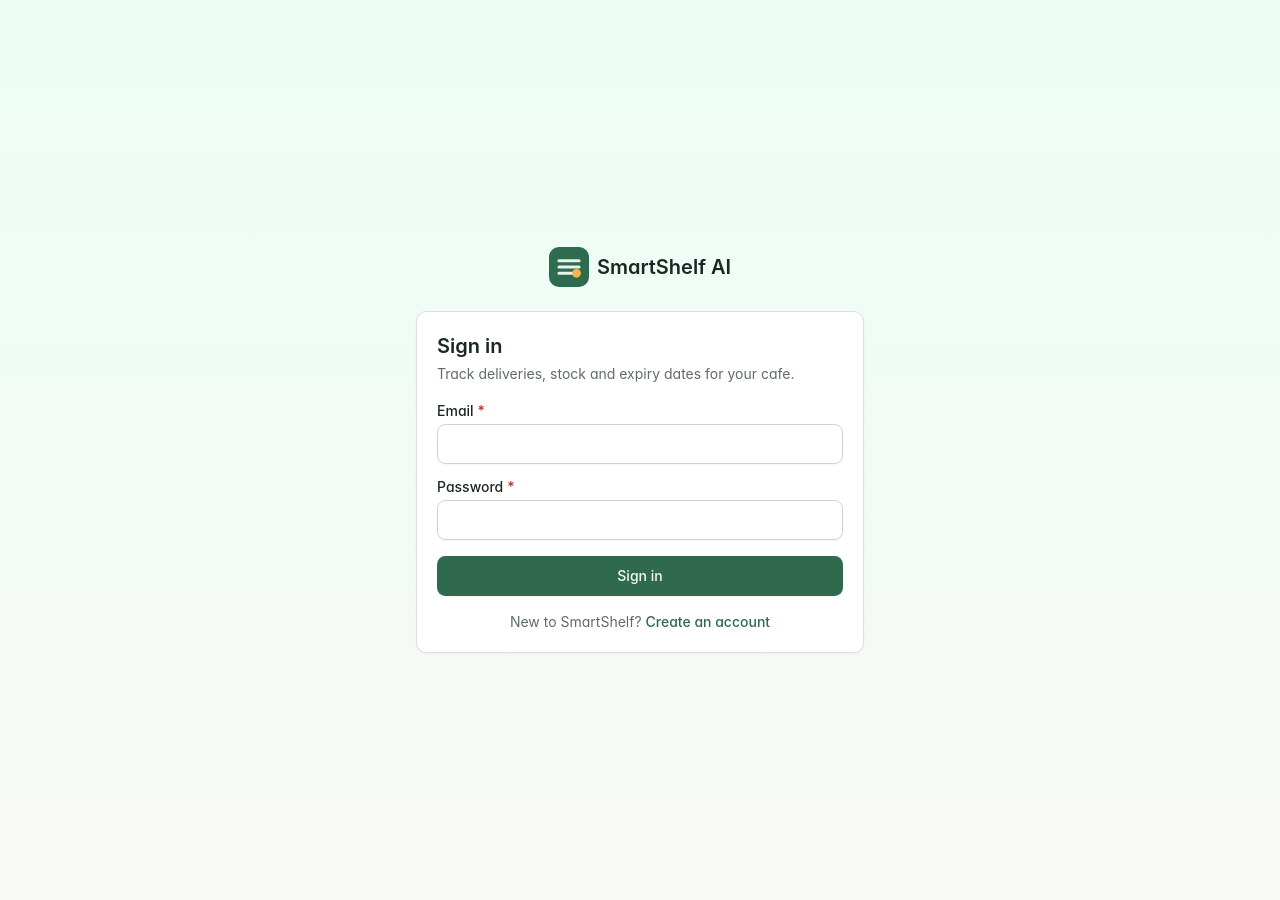
Scenario: login › shows the server error on wrong credentials
In the field labelled "Email *": point(640, 444) [437,424,843,464], type "owner@example.com"
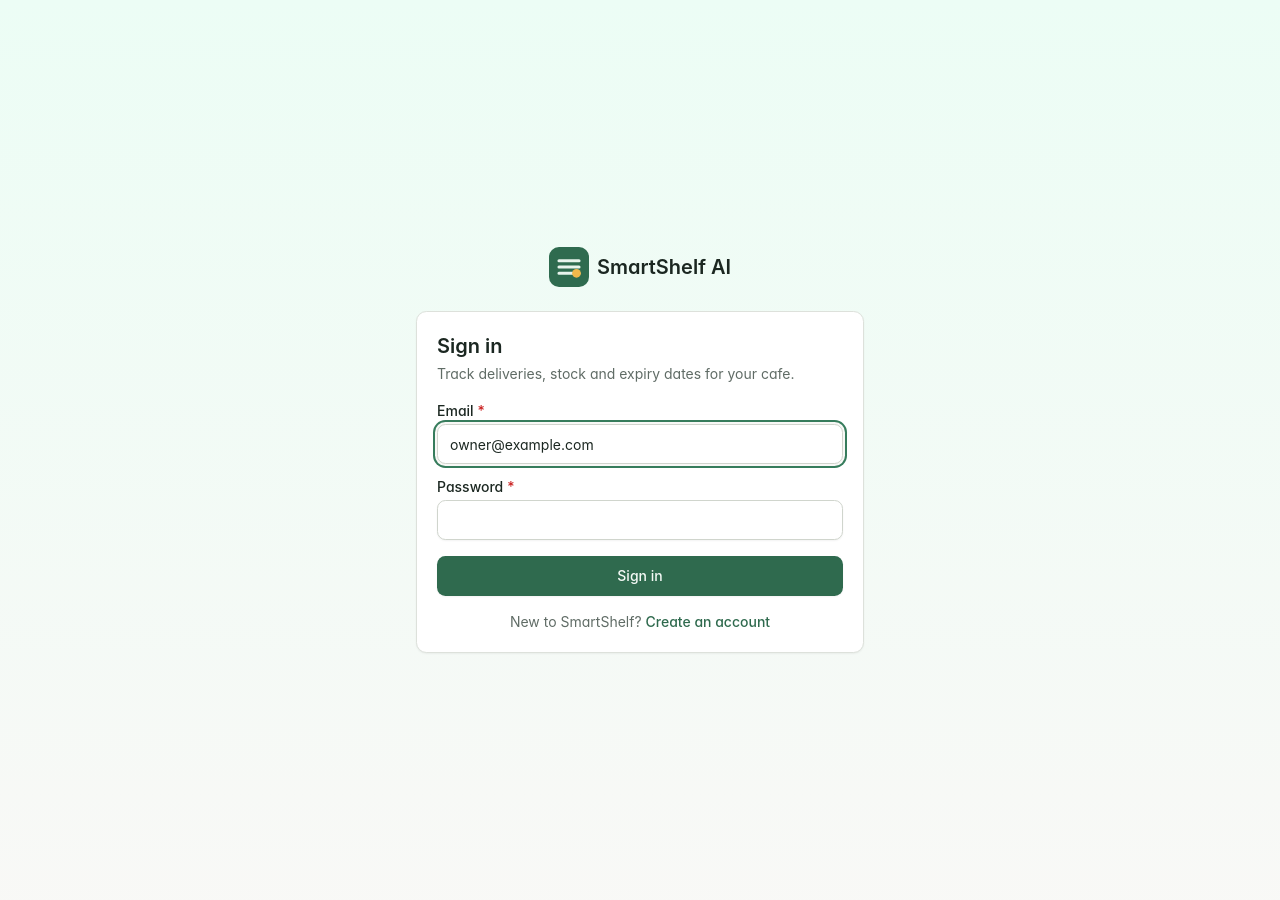
In the password field labelled "Password *": point(640, 520) [437,500,843,540], type "bad"
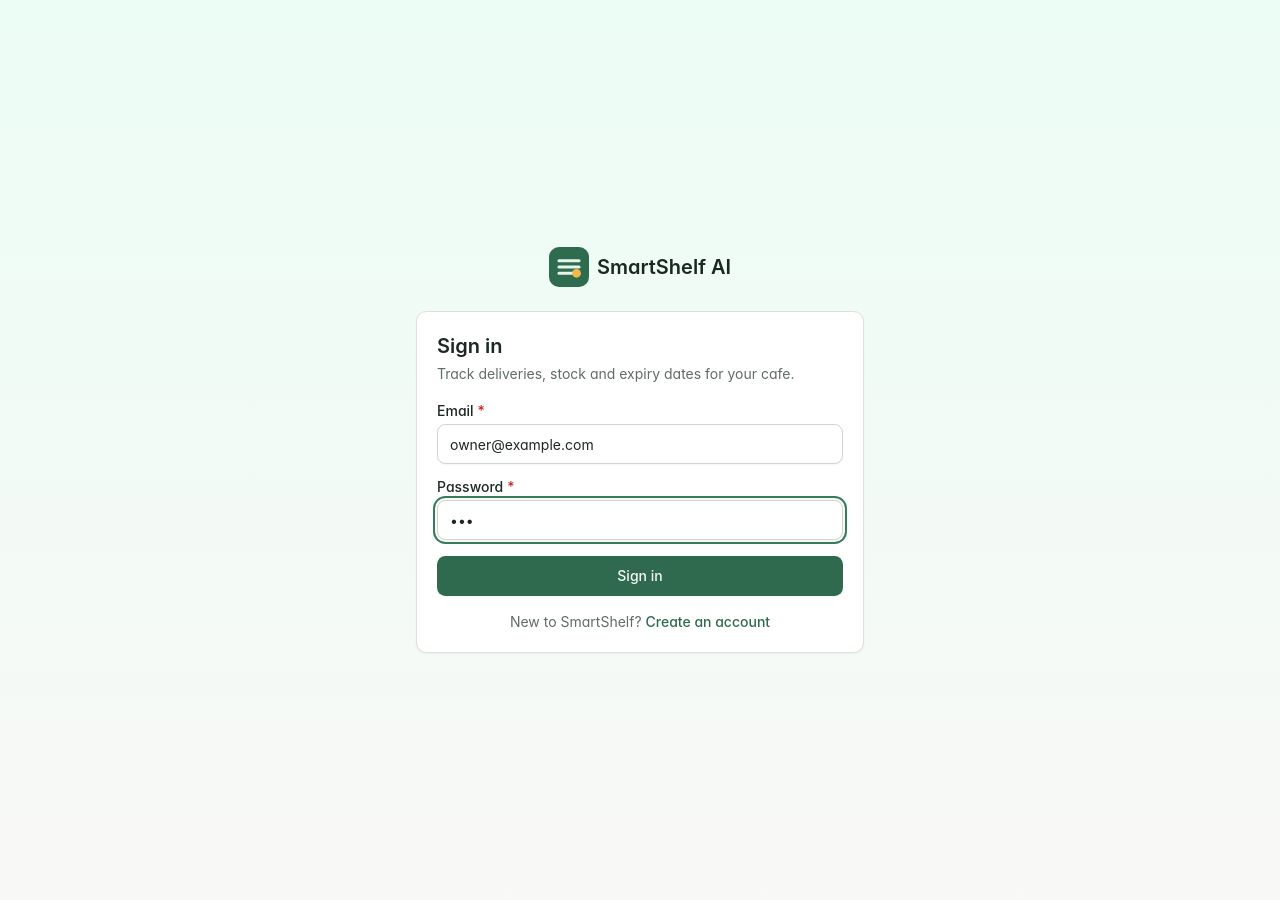
Click the button "Sign in": point(640, 576) [437,556,843,596]
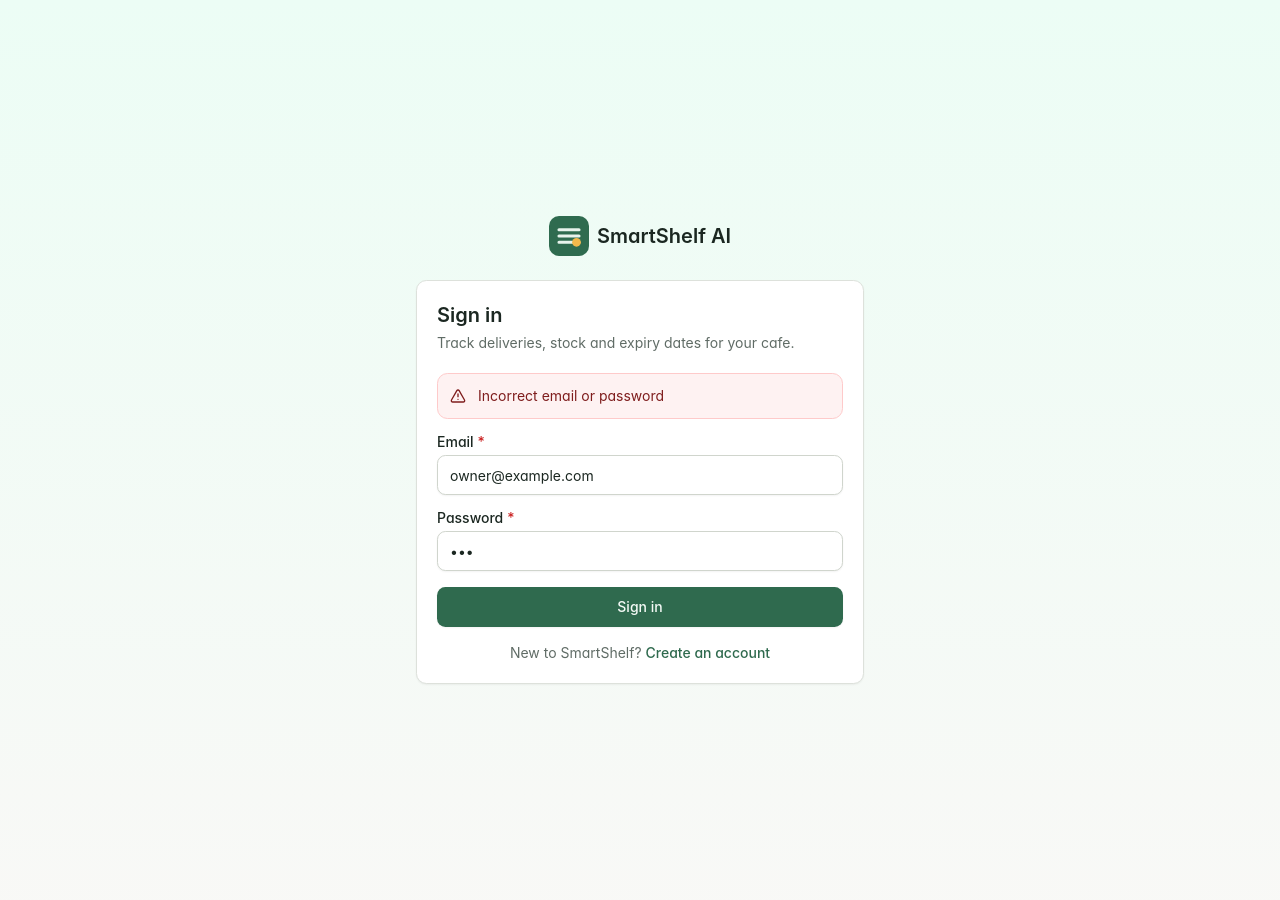
Check: the text "Incorrect email or password" is shown, box [478,386,664,406]
